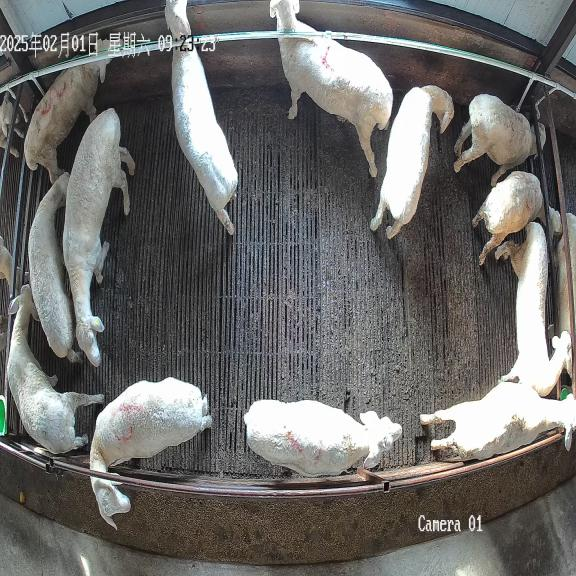drinking: (454, 94, 546, 186)
stand: (270, 0, 393, 177), (89, 377, 212, 529), (62, 108, 134, 366), (164, 0, 238, 234), (6, 285, 104, 453), (24, 33, 123, 182), (495, 222, 571, 396), (370, 85, 454, 239), (420, 382, 576, 461), (244, 400, 402, 476), (28, 173, 81, 362), (472, 171, 562, 265)
